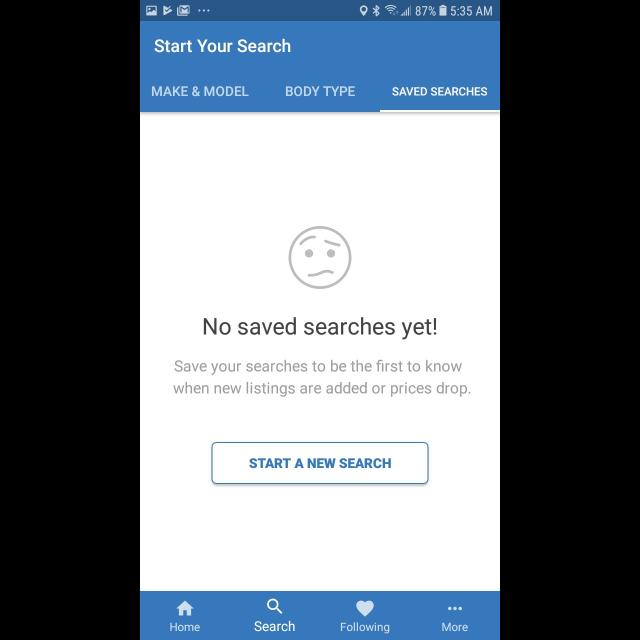icon: (356, 600, 374, 616), (177, 600, 195, 616), (267, 598, 283, 614)
image: (288, 226, 352, 290)
pageindicator: (448, 606, 462, 610)
text: (173, 359, 471, 397), (204, 316, 436, 339), (155, 39, 291, 53), (152, 86, 248, 98), (285, 86, 355, 98), (392, 88, 488, 96), (340, 622, 390, 634), (254, 620, 296, 632), (170, 622, 200, 632), (442, 622, 468, 632)
textbutton: (212, 442, 428, 484)
uppertaskbar: (140, 1, 500, 22)
